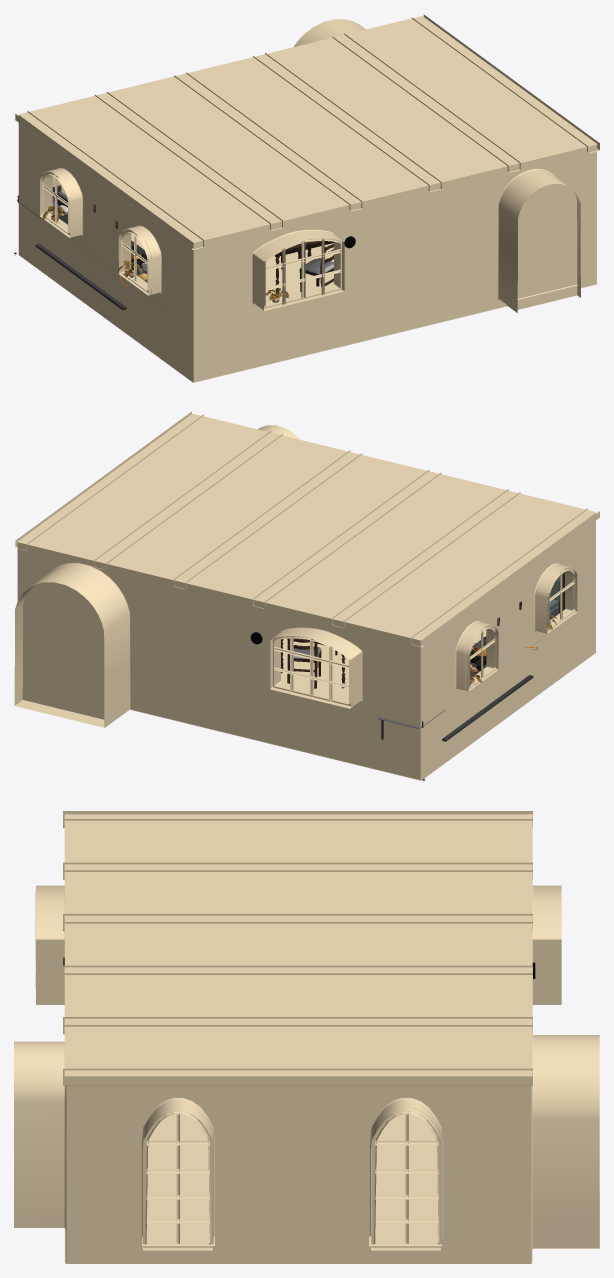
File: Kitchen.gltf
3 views of the same model, one above another, from view 1: azimuth 30°, elevation 25°; view 2: azimuth 150°, elevation 25°; view 3: azimuth 270°, elevation 25° (orthographic). The views are drawn at different scales.
Parts seen in each view (by area): view 1: Cube.003, Cube_walls_0.001, Cube.009, Cube, Cube.082, Cube.008, Cube.083, Cube.023, Cube.030, Cube.081, Cube.016, Cube.032 (+2 smaller); view 2: Cube.003, Cube_walls_0.001, Cube.003_walls_0.001, Cube, Cube.020, Cube.082, Cube.008, chair.006, Cube.023, Cube.030, Cube.081, Cube.083 (+3 smaller); view 3: Cube_walls_0.001, Cube.003_walls_0.001, Cube.003, Cube, Cube.008, Cube.039, Cube.038, Cube.082, Cube.023, Cube.081, Cube.030, Cube.083.
Boxes of the visible parts, <box> form: Cube.003: <box>18,19,596,382</box>; Cube_walls_0.001: <box>18,16,597,242</box>; Cube.009: <box>264,238,341,308</box>; Cube: <box>131,234,597,382</box>; Cube.082: <box>15,111,203,249</box>; Cube.008: <box>411,14,599,153</box>; Cube.083: <box>332,33,520,172</box>; Cube.023: <box>253,53,441,191</box>; Cube.030: <box>174,72,362,211</box>; Cube.081: <box>94,92,282,230</box>; Cube.016: <box>121,229,151,295</box>; Cube.032: <box>41,171,69,235</box>; Cube.003: <box>14,425,595,780</box>; Cube_walls_0.001: <box>17,413,596,640</box>; Cube.003_walls_0.001: <box>94,590,129,727</box>; Cube: <box>14,630,486,780</box>; Cube.020: <box>273,636,350,706</box>; Cube.082: <box>411,508,599,647</box>; Cube.008: <box>15,411,203,550</box>; chair.006: <box>287,638,321,688</box>; Cube.023: <box>174,450,362,589</box>; Cube.030: <box>253,469,441,608</box>; Cube.081: <box>332,489,520,627</box>; Cube.083: <box>94,431,282,569</box>; Cube_walls_0.001: <box>64,814,532,1076</box>; Cube.003_walls_0.001: <box>67,1085,530,1263</box>; Cube.003: <box>14,885,599,1263</box>; Cube: <box>64,1114,599,1263</box>; Cube.008: <box>63,1068,532,1085</box>; Cube.039: <box>371,1108,442,1244</box>; Cube.038: <box>142,1111,213,1244</box>; Cube.082: <box>63,811,532,828</box>; Cube.023: <box>63,965,532,982</box>; Cube.081: <box>63,862,532,879</box>; Cube.030: <box>63,914,532,931</box>; Cube.083: <box>63,1017,532,1034</box>.
Size of the model in its own units: 86.37 by 26.61 by 74.54.
Materials: 82 (56 with a texture image).
